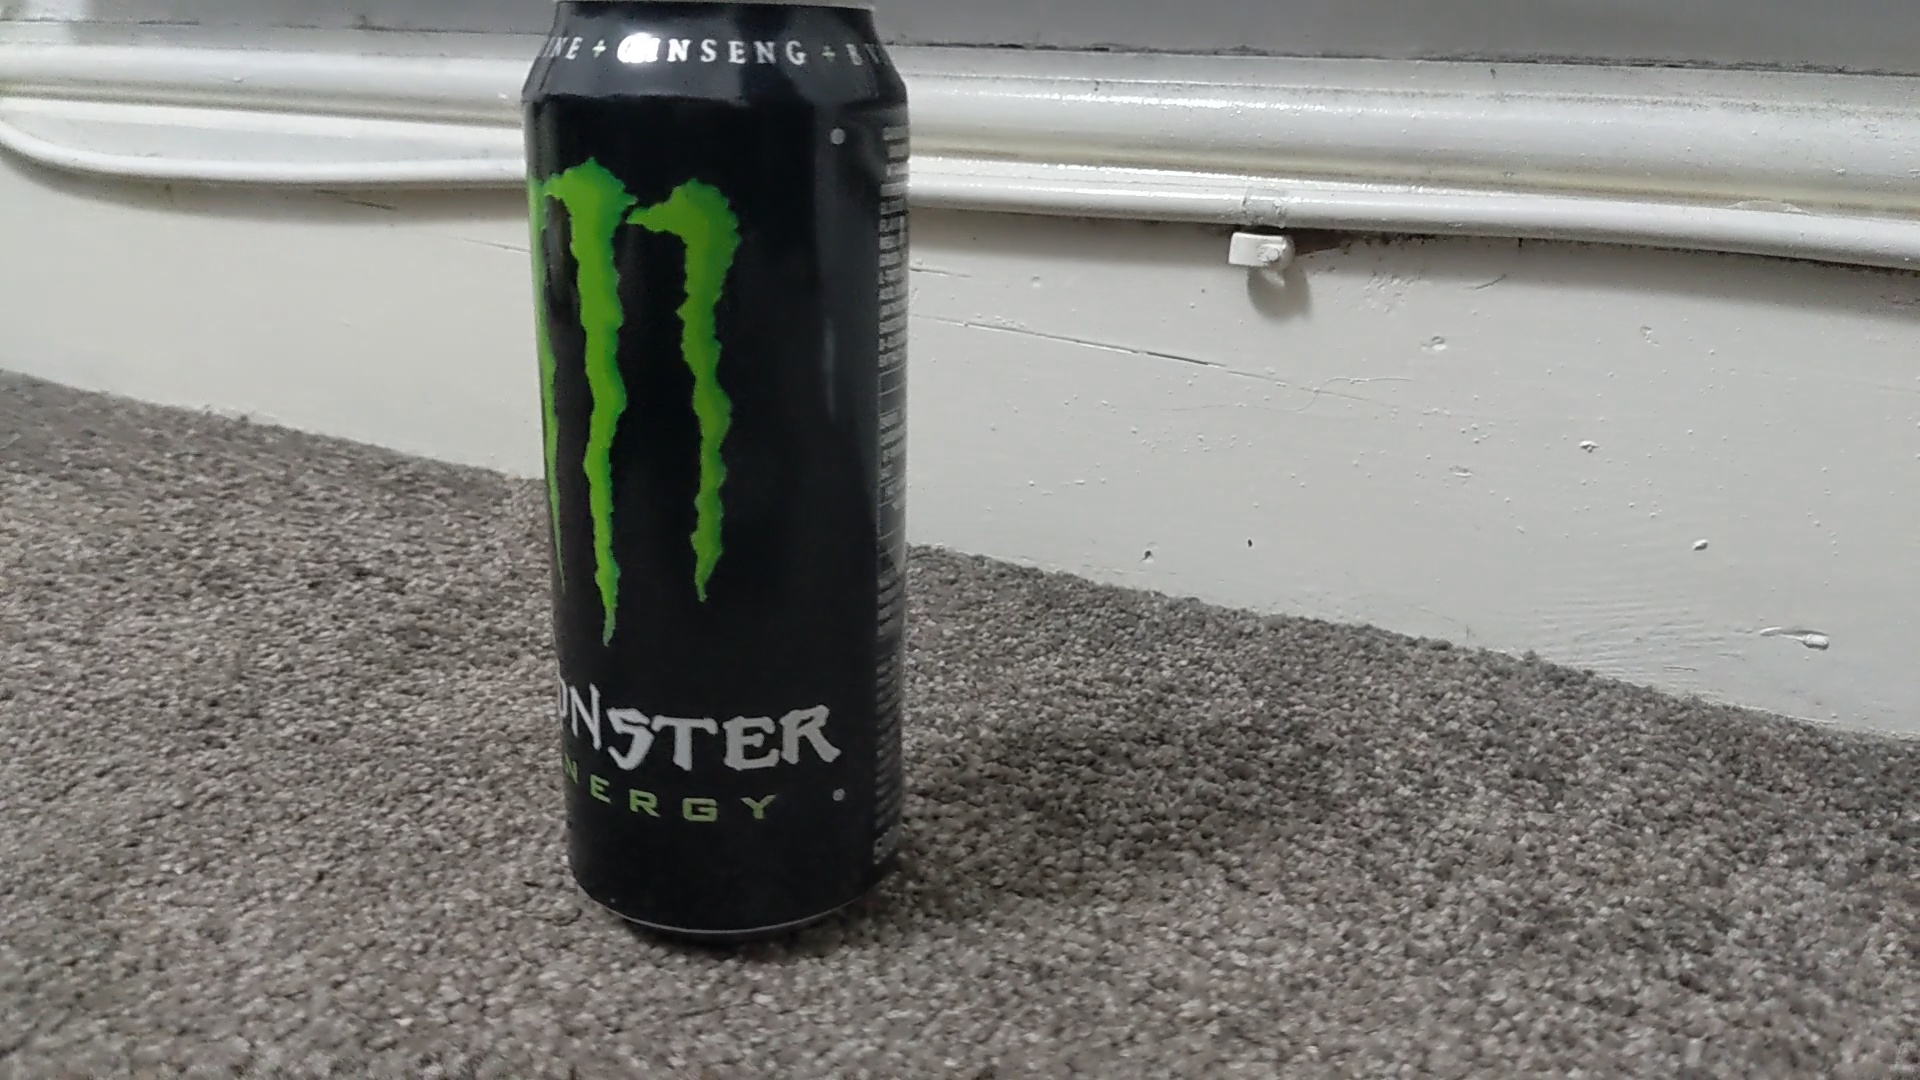monster-original: (522, 1, 906, 942)
